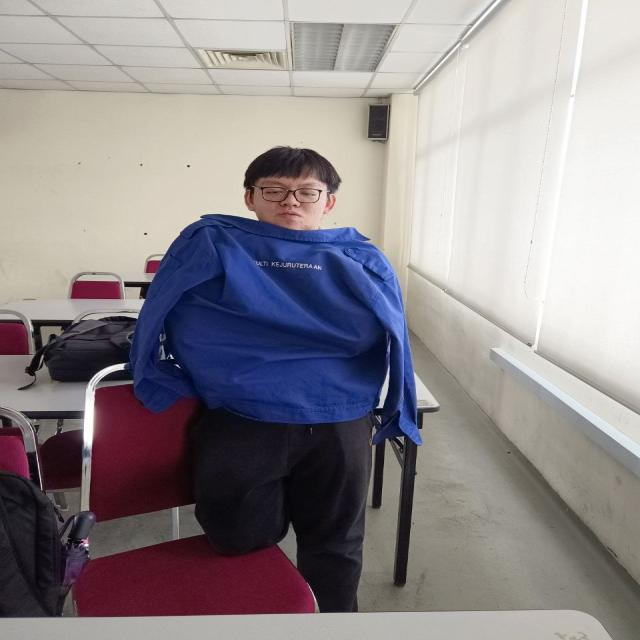person_without_labcoat: (131, 146, 419, 611)
